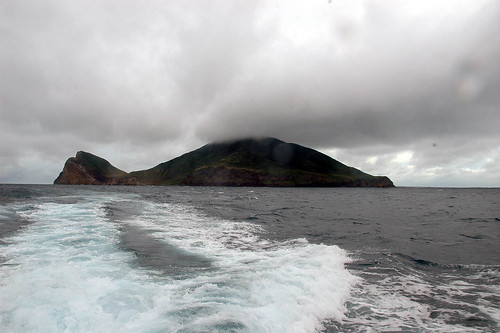turtleIslandLeft: (54, 136, 394, 186)
